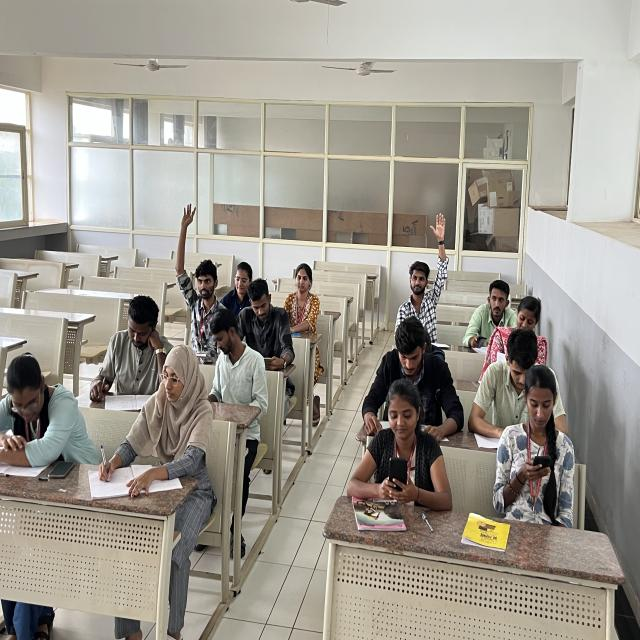Hand Rising: (169, 210, 224, 338), (396, 212, 454, 328)
Using Phone: (486, 363, 599, 506), (350, 383, 458, 513)
Writing: (96, 348, 207, 497), (82, 289, 172, 409)
